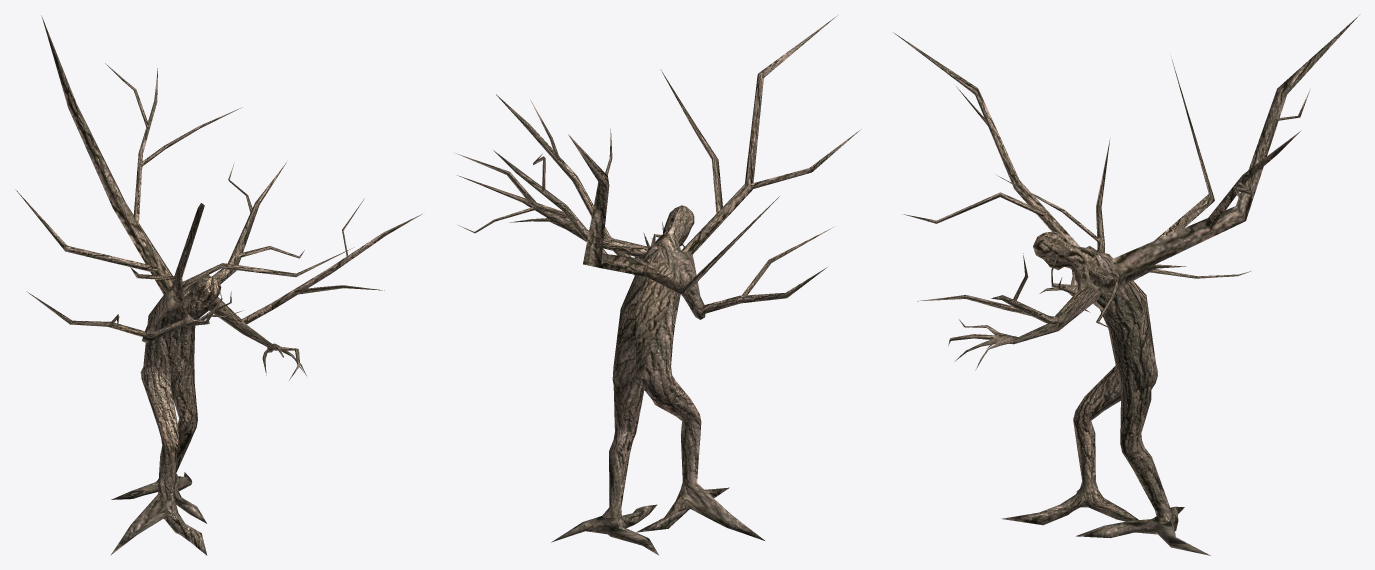
Rendered from tree_hitogata4_2.fbx.
3 renders of one model, left to right at view 1: azimuth 30°, elevation 25°; view 2: azimuth 150°, elevation 25°; view 3: azimuth 270°, elevation 25°, orthographic. The views are drawn at different scales.
Parts seen in each view (by area): view 1: tree_hitogata4; view 2: tree_hitogata4; view 3: tree_hitogata4.
Boxes of the visible parts, x1=… form: tree_hitogata4: x1=15, y1=15, x2=422, y2=555; tree_hitogata4: x1=455, y1=15, x2=859, y2=555; tree_hitogata4: x1=893, y1=14, x2=1360, y2=555.
Size of the model in its own units: 15.16 by 18.25 by 15.28.
